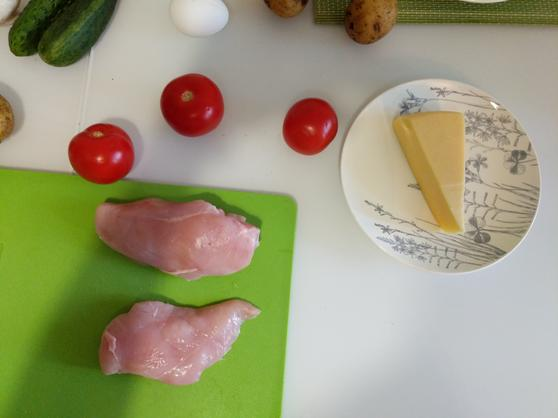cheese: (395, 109, 467, 233)
chicken_fillet: (97, 298, 264, 386), (96, 197, 260, 278)
cucumber: (40, 2, 122, 67), (8, 1, 57, 56)
egg: (171, 1, 230, 36)
potato: (344, 1, 397, 44)
tomato: (158, 73, 225, 137), (66, 123, 136, 183), (281, 97, 339, 155)
